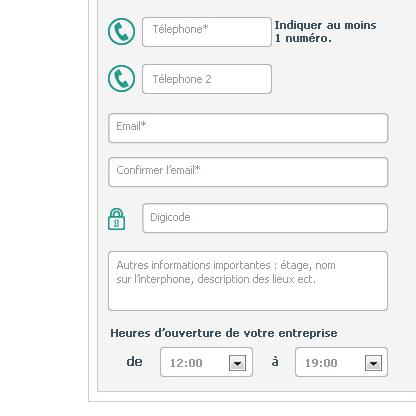field: (107, 249, 391, 312), (107, 156, 390, 189), (107, 112, 389, 143), (141, 202, 389, 235), (141, 62, 275, 96), (142, 14, 275, 48)
